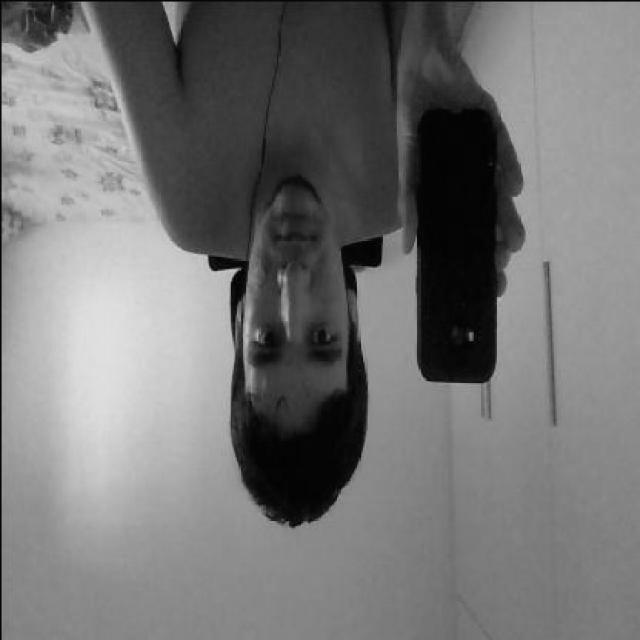fake: (415, 104, 500, 384)
real: (237, 175, 354, 433)
